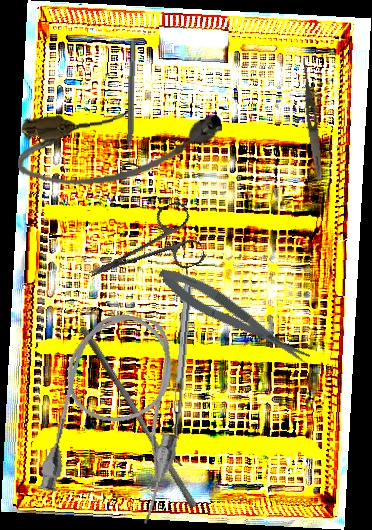Cannula: (34, 304, 202, 527), (14, 101, 226, 191)
Dressing Forceps: (297, 56, 326, 181)
Fixation Ring: (120, 40, 144, 170)
Iris Scissors: (76, 199, 208, 303)
Micro Scissor: (153, 258, 314, 376)
Pusher: (72, 324, 204, 510)
Spatula Surgical: (168, 278, 201, 467)
